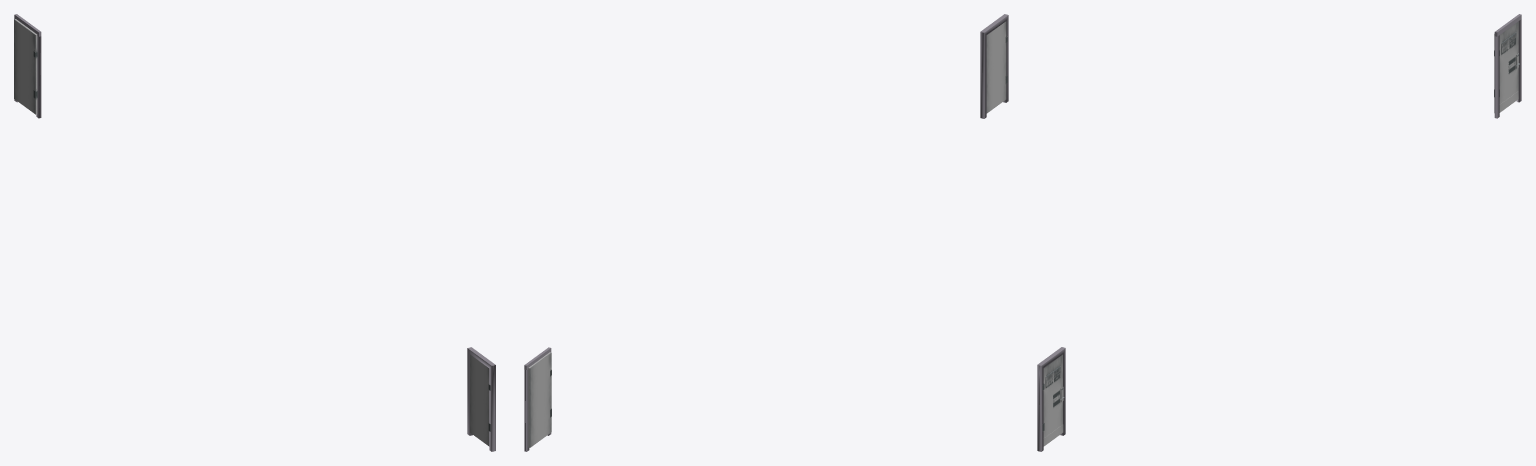
File: employeeDoors_EMBED.fbx
The picture shows the model from 3 angles, left to right: view 1: azimuth 30°, elevation 25°; view 2: azimuth 150°, elevation 25°; view 3: azimuth 330°, elevation 25°; orthographic projection.
Visible parts, largest first — view 1: Door_L, Door_R, doorframe, doorframe.001; view 2: Door_L, Door_R, doorframe, doorframe.001; view 3: Door_L, Door_R, doorframe, doorframe.001.
Boxes of the visible parts, left/top/right/bottom form: Door_L: left=14, top=19, right=37, bottom=114; Door_R: left=470, top=354, right=490, bottom=446; doorframe: left=467, top=347, right=495, bottom=451; doorframe.001: left=14, top=14, right=41, bottom=118; Door_L: left=528, top=352, right=551, bottom=447; Door_R: left=986, top=21, right=1007, bottom=113; doorframe: left=980, top=14, right=1008, bottom=118; doorframe.001: left=524, top=347, right=551, bottom=451; Door_L: left=1494, top=21, right=1519, bottom=112; Door_R: left=1042, top=354, right=1064, bottom=446; doorframe: left=1037, top=347, right=1065, bottom=451; doorframe.001: left=1494, top=14, right=1521, bottom=118.
Bounding box in the file's own units: 97.06 × 1369 × 13821.
2 materials, 1 textured.
